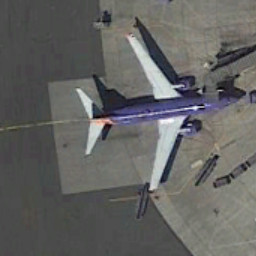Airplane: (70, 27, 253, 195)
